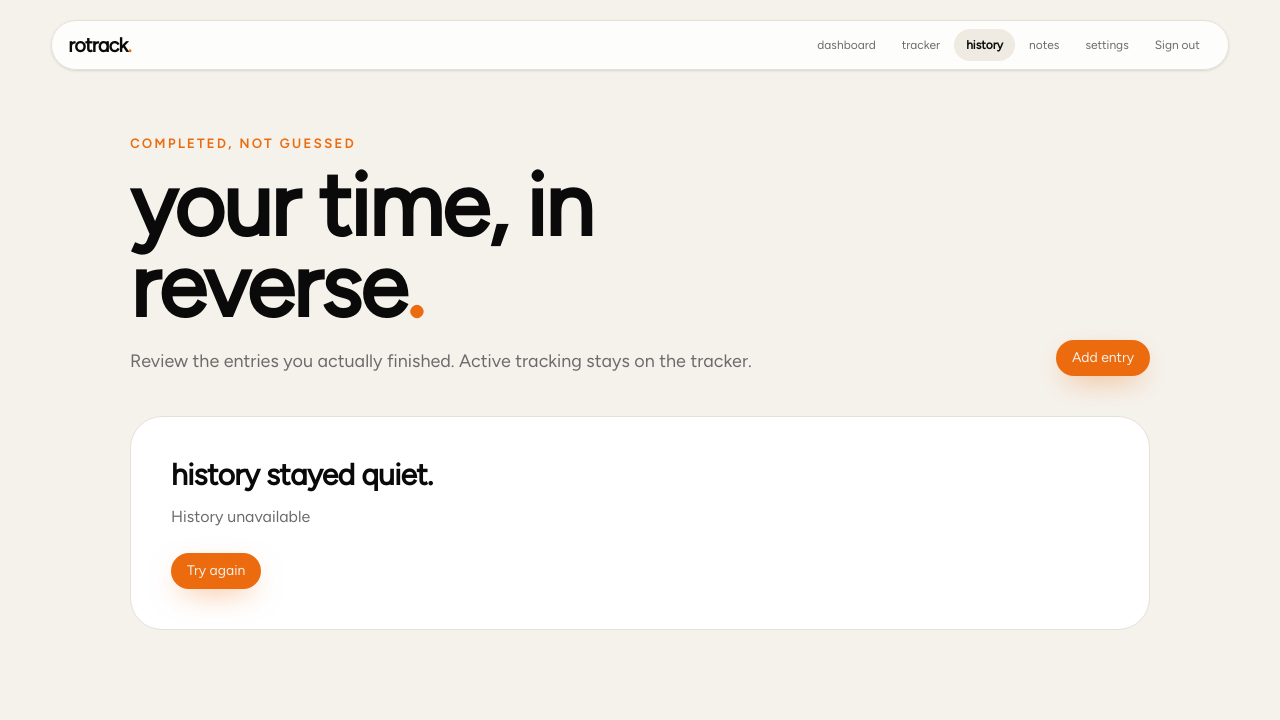
HistoryPage › shows an empty state and retries a failed initial request
Expected: the message shows "History unavailable", [171,507,310,526]
Click the button "Try again" at (216, 571), box [171,553,261,589]
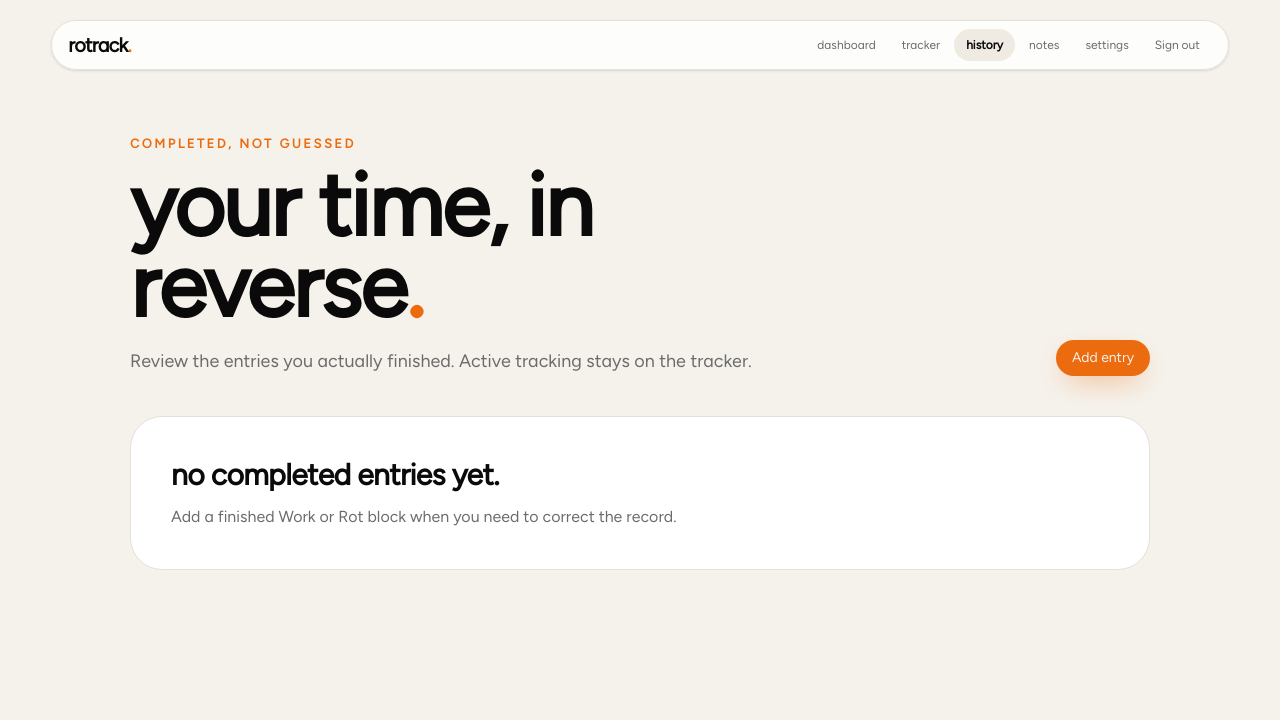
Expected: the text "no completed entries yet." is shown, [171,456,499,493]
